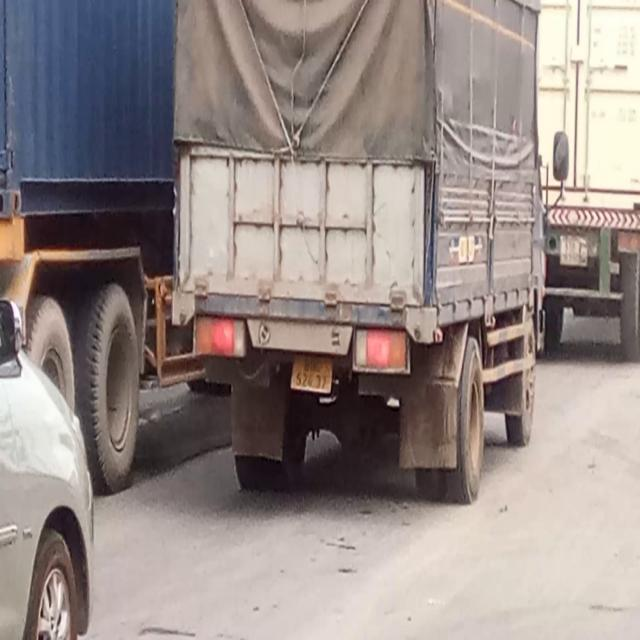bien_vang: (290, 349, 334, 392)
